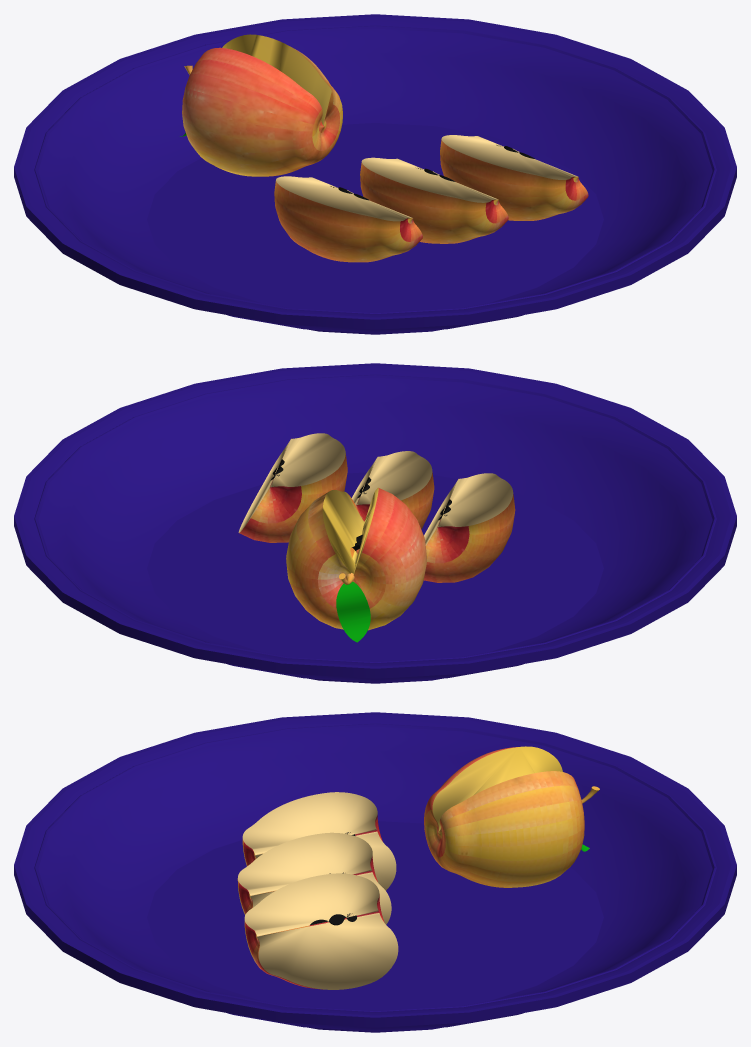
Rendered from Apel.fbx.
3 views of the same model, one above another, from view 1: azimuth 30°, elevation 25°; view 2: azimuth 150°, elevation 25°; view 3: azimuth 270°, elevation 25° (orthographic).
Visible parts, largest first — view 1: piring, APPLE 2, Apple.001, Apple.002, Apple.003; view 2: piring, APPLE 2, Apple.001, Apple.003, Apple.002; view 3: piring, APPLE 2, Apple.003, Apple.001, Apple.002.
Part boxes in pixels (left/top/right/bottom): piring: left=14, top=14, right=736, bottom=334; APPLE 2: left=180, top=34, right=342, bottom=176; Apple.001: left=274, top=176, right=422, bottom=262; Apple.002: left=360, top=157, right=508, bottom=243; Apple.003: left=440, top=135, right=588, bottom=220; piring: left=14, top=363, right=736, bottom=683; APPLE 2: left=286, top=487, right=426, bottom=642; Apple.001: left=424, top=473, right=515, bottom=582; Apple.003: left=238, top=433, right=347, bottom=542; Apple.002: left=351, top=451, right=434, bottom=529; piring: left=14, top=712, right=736, bottom=1032; APPLE 2: left=424, top=746, right=599, bottom=887; Apple.003: left=244, top=873, right=398, bottom=989; Apple.001: left=242, top=792, right=396, bottom=890; Apple.002: left=237, top=832, right=391, bottom=924.
Size of the model in its own units: 9706 by 2356 by 9706.
